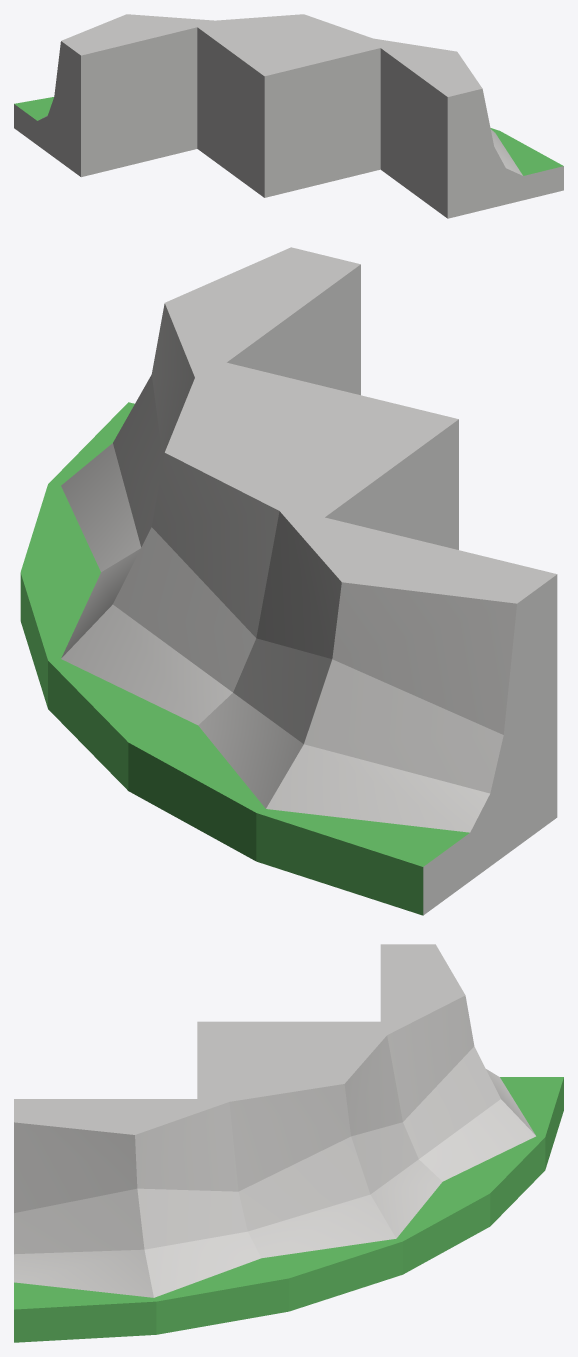
Rendered from Cliff_Base_Corner_Outer_Lg.glb.
3 renders of one model, top to bottom at view 1: azimuth 30°, elevation 25°; view 2: azimuth 150°, elevation 25°; view 3: azimuth 270°, elevation 25°, orthographic. The views are drawn at different scales.
Parts seen in each view (by area): view 1: object1; view 2: object1; view 3: object1.
Boxes of the visible parts, x1,y1,x2,y2 form: object1: (14, 14, 563, 218); object1: (20, 247, 557, 915); object1: (14, 944, 563, 1342).
Bounding box in the file's own units: 3 × 1 × 3.
